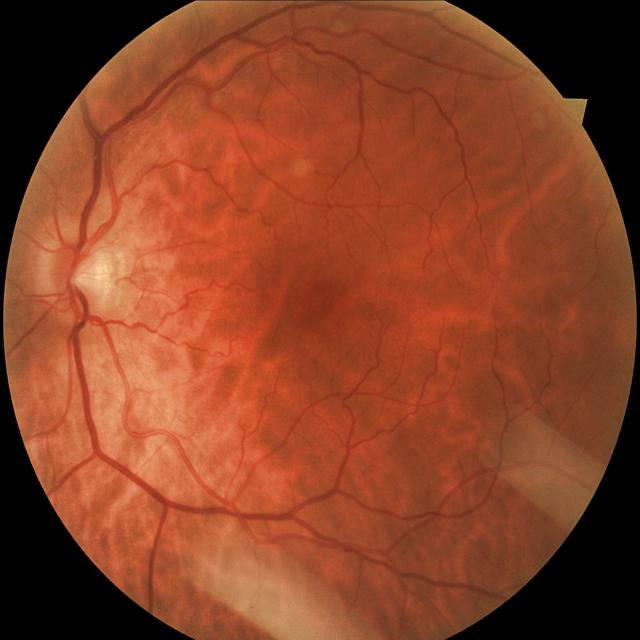OD: (44, 227, 112, 323)
